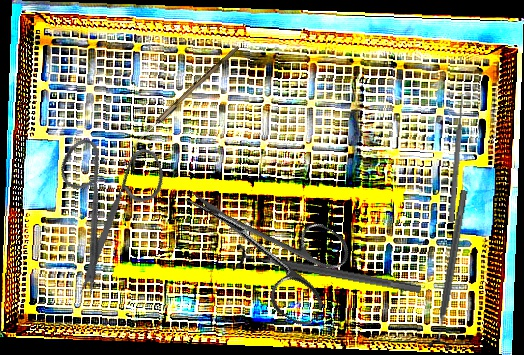Fixation Ring: (232, 242, 424, 305), (427, 188, 477, 351)
Iris Scissors: (161, 155, 359, 331), (20, 113, 200, 303)
Pusher: (447, 93, 467, 223)
Surgical Spoon: (127, 43, 240, 152)
